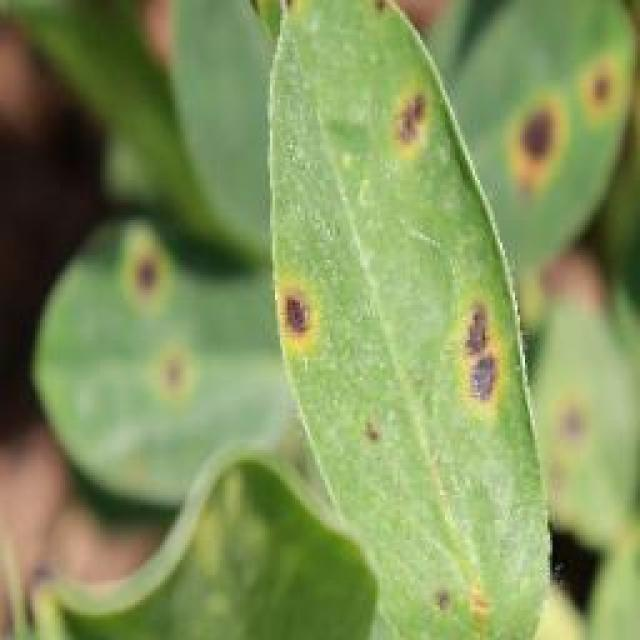Sigatoka: (112, 228, 194, 395), (486, 73, 568, 198), (433, 298, 504, 425), (382, 84, 454, 170), (568, 48, 635, 131), (426, 575, 511, 640), (254, 281, 314, 371), (528, 392, 592, 473), (351, 402, 386, 456), (350, 0, 395, 32)
